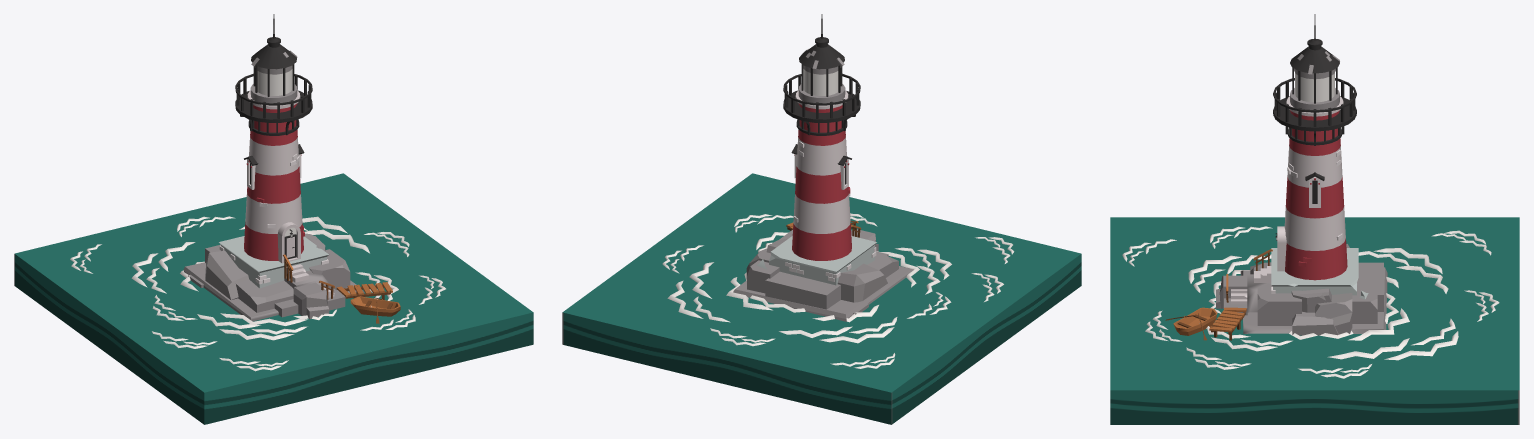
File: Lighthouse.glb
3 renders of one model, left to right at view 1: azimuth 30°, elevation 25°; view 2: azimuth 150°, elevation 25°; view 3: azimuth 270°, elevation 25°, orthographic. The views are drawn at different scales.
Parts seen in each view (by area): view 1: Lighthouse; view 2: Lighthouse; view 3: Lighthouse.
Part boxes in pixels (x1,y1,x2,y2): Lighthouse: [14, 14, 533, 424]; Lighthouse: [562, 14, 1081, 424]; Lighthouse: [1110, 14, 1519, 424].
Size of the model in its own units: 24.44 by 21.37 by 24.44.
1 material, 1 textured.
